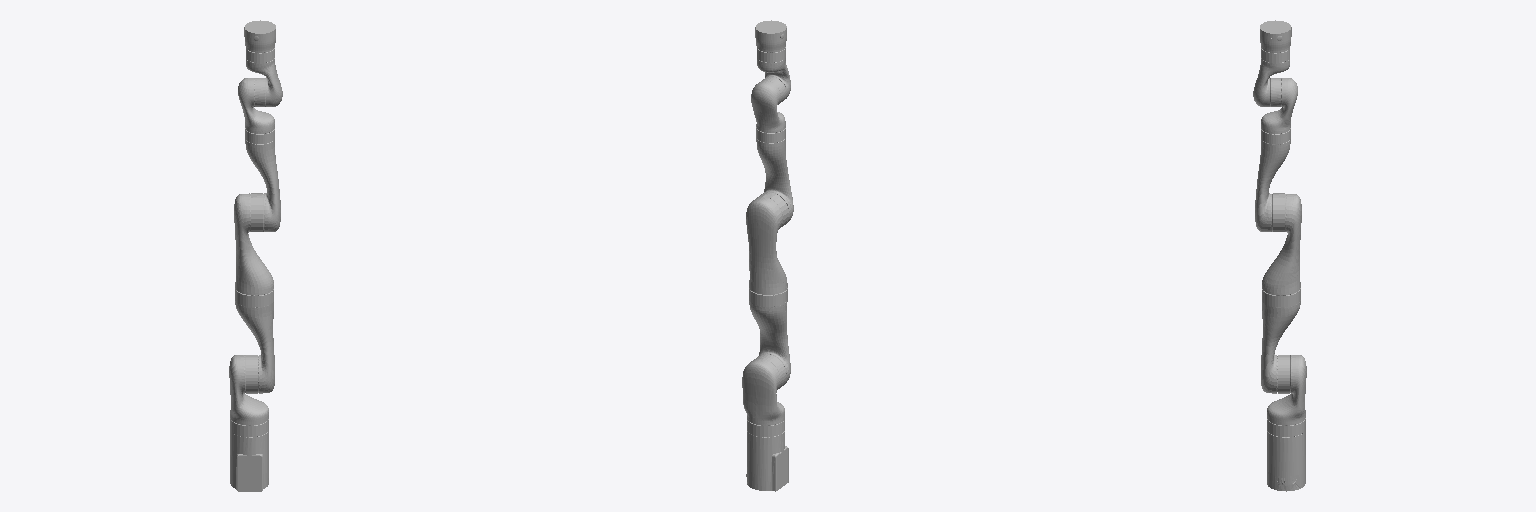
URDF robot description (GEN3_URDF_V12):
<robot name="GEN3_URDF_V12" version="1.0">
  <link name="world">
  </link>
  <joint name="Fix_world" type="fixed">
    <origin xyz="0 0 0" rpy="0 0 0"/>
    <parent link="world" />
    <child link="Base_Link" />
  </joint>
  <link name="Base_Link">
    <inertial>
      <origin xyz="-0.000648 -0.000166 0.084487" rpy="0 0 0" />
      <mass value="1.697" />
      <inertia ixx="0.004622" ixy="9E-06" ixz="6E-05" iyy="0.004495" iyz="9E-06" izz="0.002079" />
    </inertial>
    <visual>
      <origin xyz="0 0 0" rpy="0 0 0" />
      <geometry>
        <mesh filename="kinova_gen3/base_link.stl" />
      </geometry>
      <material name="">
        <color rgba="0.75294 0.75294 0.75294 1" />
      </material>
    </visual>
    <collision>
      <origin xyz="0 0 0" rpy="0 0 0" />
      <geometry>
        <mesh filename="kinova_gen3/base_link.stl" />
      </geometry>
    </collision>
  </link>
  <link name="Shoulder_Link">
    <inertial>
      <origin xyz="-2.3E-05 -0.010364 -0.07336" rpy="0 0 0" />
      <mass value="1.3773" />
      <inertia ixx="0.00457" ixy="1E-06" ixz="2E-06" iyy="0.004831" iyz="0.000448" izz="0.001409" />
    </inertial>
    <visual>
      <origin xyz="0 0 0" rpy="0 0 0" />
      <geometry>
        <mesh filename="kinova_gen3/shoulder_link.stl" />
      </geometry>
      <material name="">
        <color rgba="0.75294 0.75294 0.75294 1" />
      </material>
    </visual>
    <collision>
      <origin xyz="0 0 0" rpy="0 0 0" />
      <geometry>
        <mesh filename="kinova_gen3/shoulder_link.stl" />
      </geometry>
    </collision>
  </link>
  <joint name="Actuator1" type="continuous">
    <origin xyz="0 0 0.15643" rpy="3.1416 2.7629E-18 -4.9305E-36" />
    <parent link="Base_Link" />
    <child link="Shoulder_Link" />
    <axis xyz="0 0 1" />
    <limit lower="-1000" upper="1000" effort="39" velocity="0.8727" />
  </joint>
  <link name="HalfArm1_Link">
    <inertial>
      <origin xyz="-4.4E-05 -0.09958 -0.013278" rpy="0 0 0" />
      <mass value="1.1636" />
      <inertia ixx="0.011088" ixy="5E-06" ixz="0" iyy="0.001072" iyz="-0.000691" izz="0.011255" />
    </inertial>
    <visual>
      <origin xyz="0 0 0" rpy="0 0 0" />
      <geometry>
        <mesh filename="kinova_gen3/half_arm_1_link.stl" />
      </geometry>
      <material name="">
        <color rgba="0.75294 0.75294 0.75294 1" />
      </material>
    </visual>
    <collision>
      <origin xyz="0 0 0" rpy="0 0 0" />
      <geometry>
        <mesh filename="kinova_gen3/half_arm_1_link.stl" />
      </geometry>
    </collision>
  </link>
  <joint name="Actuator2" type="revolute">
    <origin xyz="0 0.005375 -0.12838" rpy="1.5708 2.1343E-17 -1.1102E-16" />
    <parent link="Shoulder_Link" />
    <child link="HalfArm1_Link" />
    <axis xyz="0 0 1" />
    <limit lower="-2.41" upper="2.41" effort="39" velocity="0.8727" />
  </joint>
  <link name="HalfArm2_Link">
    <inertial>
      <origin xyz="-4.4E-05 -0.006641 -0.117892" rpy="0 0 0" />
      <mass value="1.1636" />
      <inertia ixx="0.010932" ixy="0" ixz="-7E-06" iyy="0.011127" iyz="0.000606" izz="0.001043" />
    </inertial>
    <visual>
      <origin xyz="0 0 0" rpy="0 0 0" />
      <geometry>
        <mesh filename="kinova_gen3/half_arm_2_link.stl" />
      </geometry>
      <material name="">
        <color rgba="0.75294 0.75294 0.75294 1" />
      </material>
    </visual>
    <collision>
      <origin xyz="0 0 0" rpy="0 0 0" />
      <geometry>
        <mesh filename="kinova_gen3/half_arm_2_link.stl" />
      </geometry>
    </collision>
  </link>
  <joint name="Actuator3" type="continuous">
    <origin xyz="0 -0.21038 -0.006375" rpy="-1.5708 1.2326E-32 -2.9122E-16" />
    <parent link="HalfArm1_Link" />
    <child link="HalfArm2_Link" />
    <axis xyz="0 0 1" />
    <limit lower="-1000" upper="1000" effort="39" velocity="0.8727" />
  </joint>
  <link name="ForeArm_Link">
    <inertial>
      <origin xyz="-1.8E-05 -0.075478 -0.015006" rpy="0 0 0" />
      <mass value="0.9302" />
      <inertia ixx="0.008147" ixy="-1E-06" ixz="0" iyy="0.000631" iyz="-0.0005" izz="0.008316" />
    </inertial>
    <visual>
      <origin xyz="0 0 0" rpy="0 0 0" />
      <geometry>
        <mesh filename="kinova_gen3/forearm_link.stl" />        
      </geometry>
      <material name="">
        <color rgba="0.75294 0.75294 0.75294 1" />
      </material>
    </visual>
    <collision>
      <origin xyz="0 0 0" rpy="0 0 0" />
      <geometry>
        <mesh filename="kinova_gen3/forearm_link.stl" />        
      </geometry>
    </collision>
  </link>
  <joint name="Actuator4" type="revolute">
    <origin xyz="0 0.006375 -0.21038" rpy="1.5708 -6.6954E-17 -1.6653E-16" />
    <parent link="HalfArm2_Link" />
    <child link="ForeArm_Link" />
    <axis xyz="0 0 1" />
    <limit lower="-2.66" upper="2.66" effort="39" velocity="0.8727" />
  </joint>
  <link name="SphericalWrist1_Link">
    <inertial>
      <origin xyz="1E-06 -0.009432 -0.063883" rpy="0 0 0" />
      <mass value="0.6781" />
      <inertia ixx="0.001596" ixy="0" ixz="0" iyy="0.001607" iyz="0.000256" izz="0.000399" />
    </inertial>
    <visual>
      <origin xyz="0 0 0" rpy="0 0 0" />
      <geometry>
        <mesh filename="kinova_gen3/spherical_wrist_1_link.stl" />
      </geometry>
      <material name="">
        <color rgba="0.75294 0.75294 0.75294 1" />
      </material>
    </visual>
    <collision>
      <origin xyz="0 0 0" rpy="0 0 0" />
      <geometry>
        <mesh filename="kinova_gen3/spherical_wrist_1_link.stl" />
      </geometry>
    </collision>
  </link>
  <joint name="Actuator5" type="continuous">
    <origin xyz="0 -0.20843 -0.006375" rpy="-1.5708 2.2204E-16 -6.373E-17" />
    <parent link="ForeArm_Link" />
    <child link="SphericalWrist1_Link" />
    <axis xyz="0 0 1" />
    <limit lower="-1000" upper="1000" effort="9" velocity="0.8727" />
  </joint>
  <link name="SphericalWrist2_Link">
    <inertial>
      <origin xyz="1E-06 -0.045483 -0.00965" rpy="0 0 0" />
      <mass value="0.6781" />
      <inertia ixx="0.001641" ixy="0" ixz="0" iyy="0.00041" iyz="-0.000278" izz="0.001641" />
    </inertial>
    <visual>
      <origin xyz="0 0 0" rpy="0 0 0" />
      <geometry>
        <mesh filename="kinova_gen3/spherical_wrist_2_link.stl" />
      </geometry>
      <material name="">
        <color rgba="0.75294 0.75294 0.75294 1" />
      </material>
    </visual>
    <collision>
      <origin xyz="0 0 0" rpy="0 0 0" />
      <geometry>
        <mesh filename="kinova_gen3/spherical_wrist_2_link.stl" />
      </geometry>
    </collision>
  </link>
  <joint name="Actuator6" type="revolute">
    <origin xyz="0 0.00017505 -0.10593" rpy="1.5708 9.2076E-28 -8.2157E-15" />
    <parent link="SphericalWrist1_Link" />
    <child link="SphericalWrist2_Link" />
    <axis xyz="0 0 1" />
    <limit lower="-2.23" upper="2.23" effort="9" velocity="0.8727" />
  </joint>
  <link name="Bracelet_Link">
    <inertial>
      <origin xyz="-0.000281 -0.011402 -0.029798" rpy="0 0 0" />
      <mass value="0.5006" />
      <inertia ixx="0.000587" ixy="3E-06" ixz="3E-06" iyy="0.000369" iyz="0.000118" izz="0.000609" />
    </inertial>
    <visual>
      <origin xyz="0 0 0" rpy="0 0 0" />
      <geometry>
        <mesh filename="kinova_gen3/bracelet_no_vision_link.stl" />
      </geometry>
      <material name="">
        <color rgba="0.75294 0.75294 0.75294 1" />
      </material>
    </visual>
    <collision>
      <origin xyz="0 0 0" rpy="0 0 0" />
      <geometry>
        <mesh filename="kinova_gen3/bracelet_no_vision_link.stl" />
      </geometry>
    </collision>
  </link>
  <joint name="Actuator7" type="continuous">
    <origin xyz="0 -0.10593 -0.00017505" rpy="-1.5708 -5.5511E-17 9.6396E-17" />
    <parent link="SphericalWrist2_Link" />
    <child link="Bracelet_Link" />
    <axis xyz="0 0 1" />
    <limit lower="-1000" upper="1000" effort="9" velocity="0.8727" />
  </joint>
  <link name="EndEffector_Link" />
  <joint name="EndEffector" type="fixed">
    <origin xyz="0 0 -0.0615250000000001" rpy="3.14159265358979 1.09937075168372E-32 0" />
    <parent link="Bracelet_Link" />
    <child link="EndEffector_Link" />
    <axis xyz="0 0 0" />
  </joint>
  <klampt world_frame="world" defaultAccMax="4">
    <noselfcollision group1="Base_Link Shoulder_Link" group2="HalfArm1_Link HalfArm2_Link ForeArm_Link SphericalWrist1_Link" />
    <noselfcollision group1="HalfArm1_Link HalfArm2_Link" group2="ForeArm_Link SphericalWrist1_Link" />
    <noselfcollision group1="HalfArm2_Link ForeArm_Link" group2="SphericalWrist1_Link SphericalWrist2_Link Bracelet_Link" />
    <noselfcollision group1="SphericalWrist1_Link" group2="Bracelet_Link" />

    <link name="Shoulder_Link" servoP="1400" servoI="0" servoD="6" dryFriction="0.5" viscousFriction="8" />
    <link name="HalfArm1_Link" servoP="1600" servoI="0" servoD="8" dryFriction="0.5" viscousFriction="10" />
    <link name="HalfArm2_Link" servoP="1000" servoI="0" servoD="3" dryFriction="0" viscousFriction="6" />
    <link name="ForeArm_Link" servoP="800" servoI="0" servoD="5" dryFriction="0" viscousFriction="4" />
    <link name="SphericalWrist1_Link" servoP="200" servoI="0" servoD=".5" dryFriction="0" viscousFriction="3" />
    <link name="SphericalWrist2_Link" servoP="50" servoI="0" servoD=".2" dryFriction="0" viscousFriction="2" />
    <link name="Bracelet_Link" servoP="20" servoI="0" servoD=".1" dryFriction="0" viscousFriction="1" />
  </klampt>
</robot>

--- Render facts (derived) ---
3 views of the same robot in one strip: view 1: azimuth 90°, elevation 25°; view 2: azimuth 150°, elevation 25°; view 3: azimuth 270°, elevation 25° (orthographic).
Model GEN3_URDF_V12 with 10 links and 9 joints (3 revolute, 4 continuous, 2 fixed), rooted at world, posed every joint at zero.
Visible links, largest first — view 1: HalfArm2_Link, Base_Link, HalfArm1_Link, Shoulder_Link, ForeArm_Link, SphericalWrist1_Link, SphericalWrist2_Link, Bracelet_Link; view 2: HalfArm2_Link, Base_Link, Shoulder_Link, HalfArm1_Link, ForeArm_Link, SphericalWrist1_Link, Bracelet_Link, SphericalWrist2_Link; view 3: HalfArm2_Link, Base_Link, HalfArm1_Link, Shoulder_Link, ForeArm_Link, SphericalWrist1_Link, SphericalWrist2_Link, Bracelet_Link.
Link boxes in pixels (x1,y1,x2,y2): HalfArm2_Link: (234, 193, 273, 295); Base_Link: (230, 418, 268, 491); HalfArm1_Link: (235, 288, 274, 393); Shoulder_Link: (229, 355, 268, 425); ForeArm_Link: (245, 128, 280, 231); SphericalWrist1_Link: (238, 78, 274, 133); SphericalWrist2_Link: (246, 48, 282, 106); Bracelet_Link: (244, 20, 275, 52); HalfArm2_Link: (746, 192, 788, 294); Base_Link: (746, 420, 788, 491); Shoulder_Link: (742, 354, 786, 425); HalfArm1_Link: (749, 288, 790, 385); ForeArm_Link: (756, 127, 793, 224); SphericalWrist1_Link: (751, 76, 785, 132); Bracelet_Link: (755, 20, 786, 52); SphericalWrist2_Link: (757, 47, 790, 99); HalfArm2_Link: (1262, 193, 1301, 295); Base_Link: (1267, 418, 1305, 491); HalfArm1_Link: (1261, 288, 1300, 393); Shoulder_Link: (1267, 355, 1306, 425); ForeArm_Link: (1255, 128, 1290, 231); SphericalWrist1_Link: (1261, 78, 1297, 133); SphericalWrist2_Link: (1253, 48, 1289, 106); Bracelet_Link: (1260, 20, 1291, 52).
Size in the robot's own frame: 0.0928 by 0.1267 by 1.19 metres.
Meshes: 8 distinct files referenced, 8 mesh visuals loaded (8 binary STL).